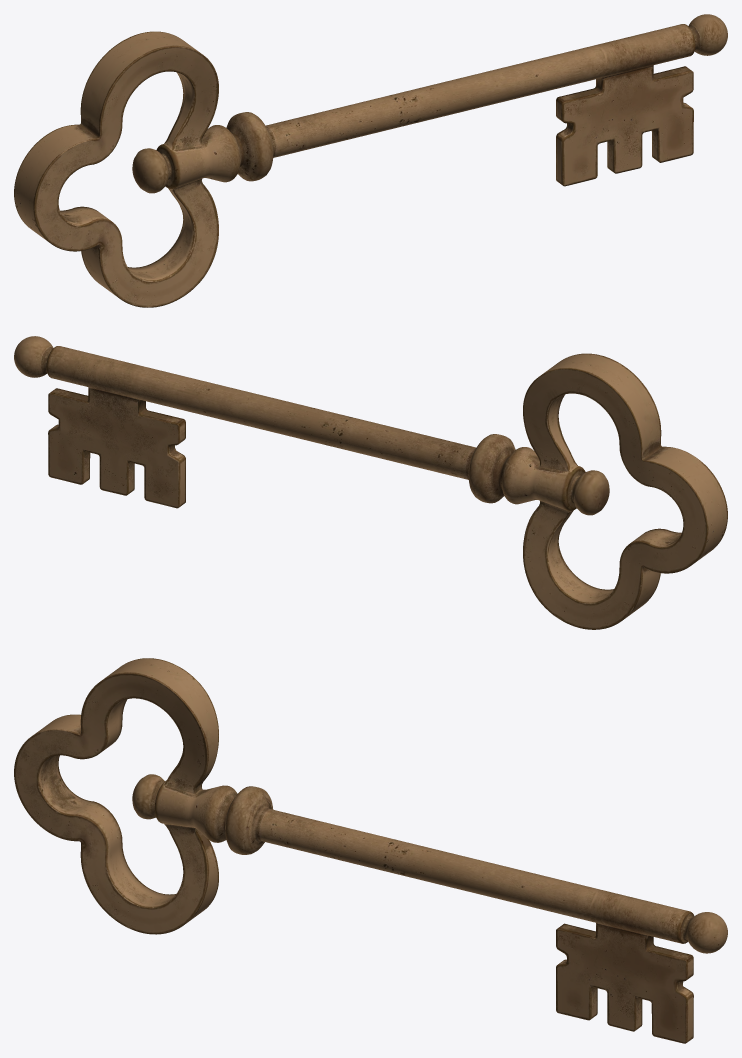
The model's file is key.glb.
3 renders of one model, top to bottom at view 1: azimuth 30°, elevation 25°; view 2: azimuth 150°, elevation 25°; view 3: azimuth 330°, elevation 25°, orthographic.
Visible parts, largest first — view 1: Key_lowpoly.002_0; view 2: Key_lowpoly.002_0; view 3: Key_lowpoly.002_0.
Boxes of the visible parts, x1,y1,x2,y2 form: Key_lowpoly.002_0: (14,14,727,307); Key_lowpoly.002_0: (14,336,727,629); Key_lowpoly.002_0: (14,658,727,1043).
Bounding box in the file's own units: 4.81 × 1.69 × 0.4143.
Materials: 1 (1 with a texture image).
